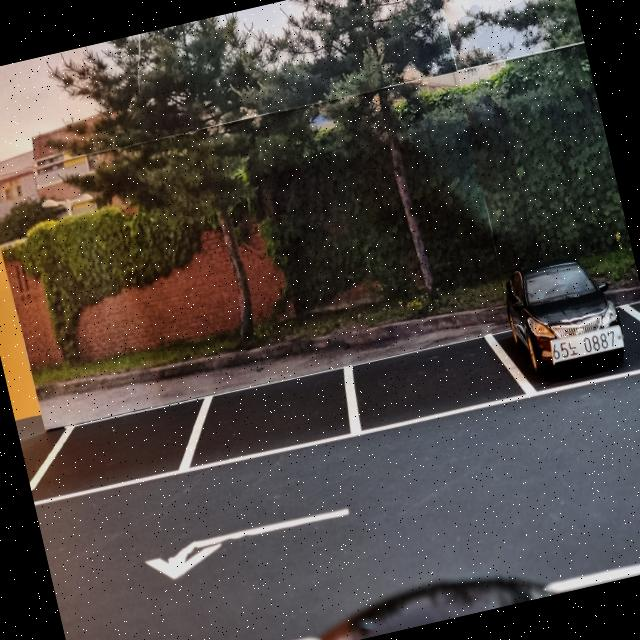empty: (22, 392, 225, 512), (330, 326, 530, 440), (200, 357, 363, 468)
occupied: (494, 238, 636, 392)
